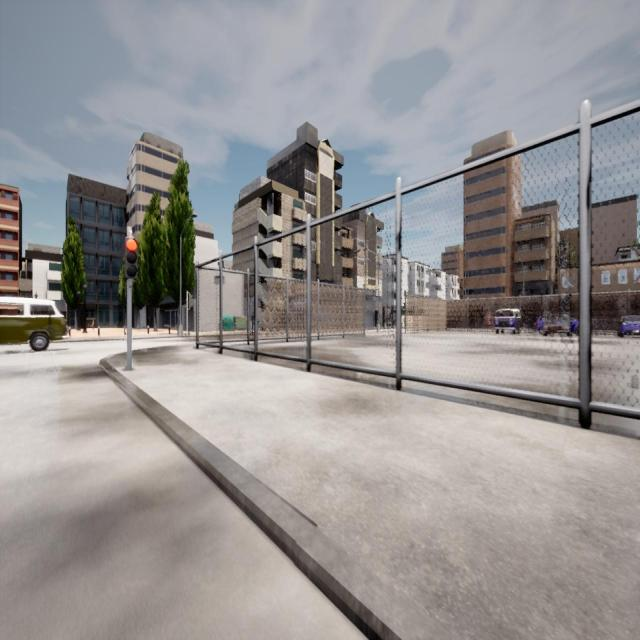Vehicle: (0, 298, 68, 348), (536, 314, 578, 334), (495, 308, 521, 334), (619, 316, 640, 337)
traffic_light: (125, 239, 138, 278)
